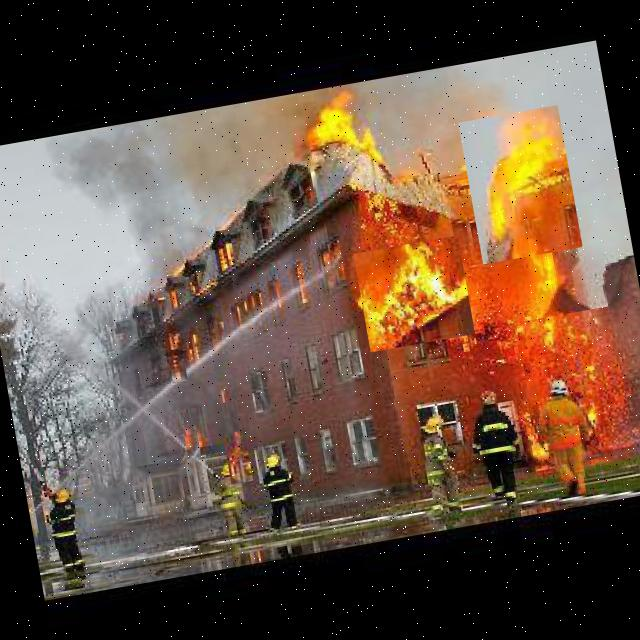fire: (458, 104, 582, 264), (522, 306, 634, 467), (353, 235, 475, 352), (302, 90, 391, 190), (222, 430, 253, 484), (164, 330, 188, 382), (182, 421, 201, 459), (224, 232, 234, 259)
